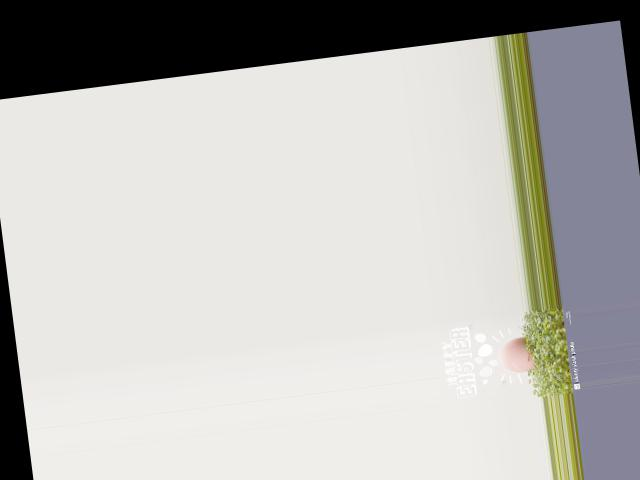egg: (497, 334, 535, 373)
